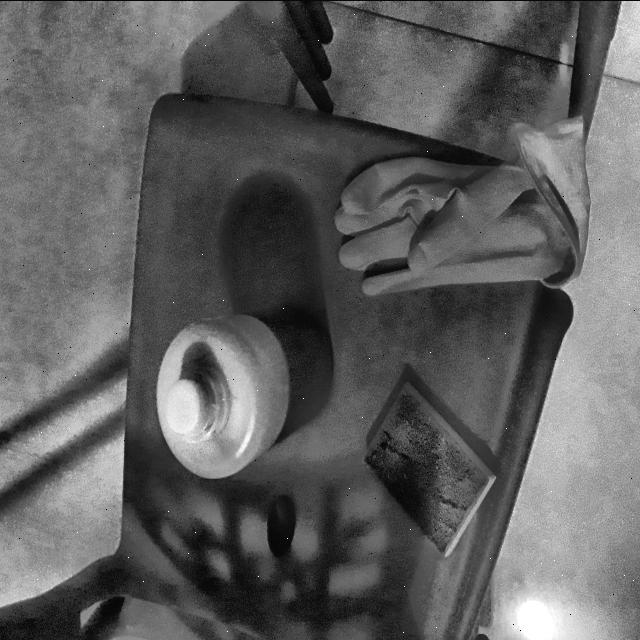gloved: (328, 136, 606, 313)
